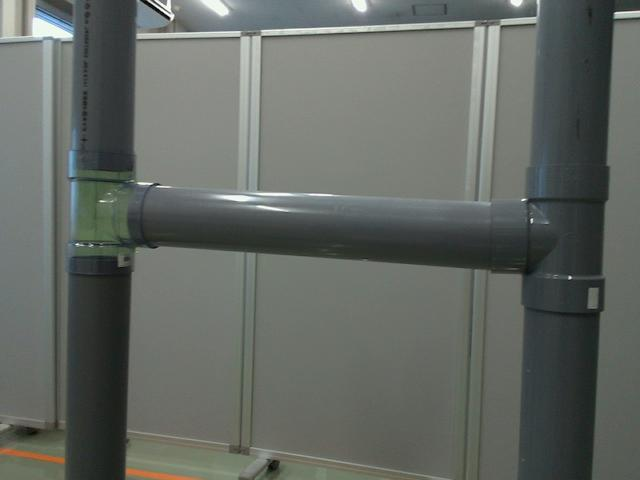junction: (492, 165, 614, 320), (62, 151, 167, 278)
